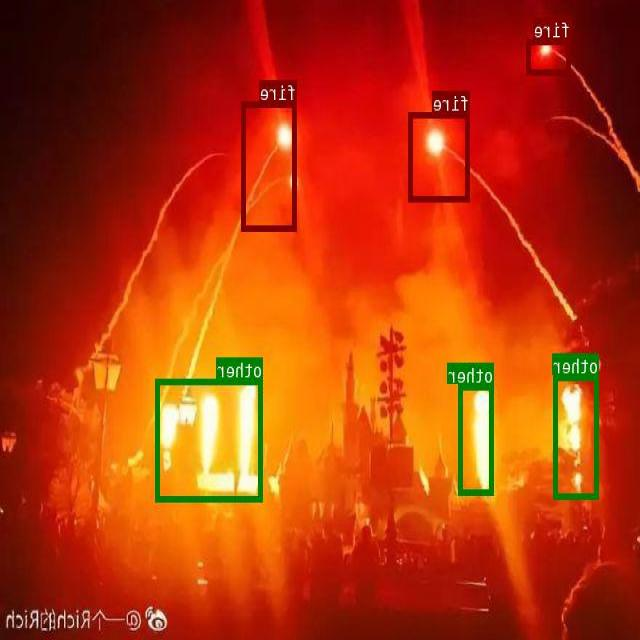fire: (242, 101, 298, 230), (409, 111, 470, 200), (528, 38, 571, 74)
other: (157, 378, 264, 501), (555, 373, 599, 498), (460, 383, 494, 495)
